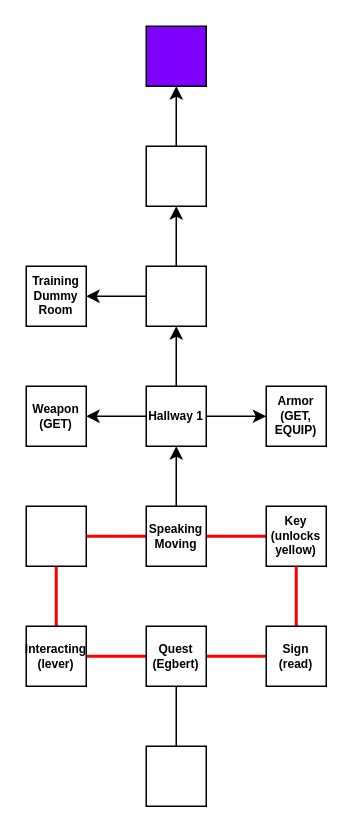
Some shapes in this 353 by 833 pixel diagram are drawn without their labels. Here are the shapes that lost their labels. From the top down, the centre of each, then its label:
At (x=175, y=55): "Exit".
At (x=175, y=295): "Hallway 2".
At (x=55, y=535): "Examining (wall)".
At (x=175, y=775): "Quest Item (office)".
